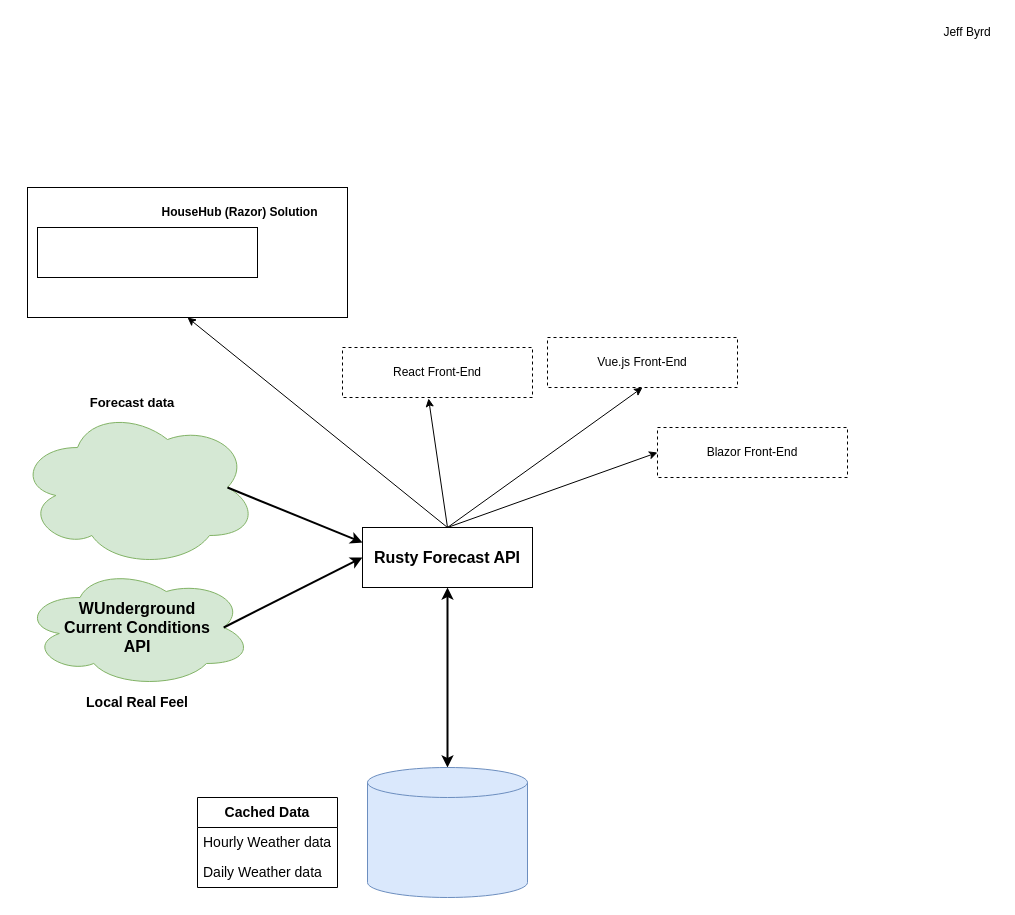
Some shapes in this 1015 by 915 pixel diagram are drawn without their labels. Each missing label, with the centre of its shape:
.NET Core Razor Pages: the point at 147,252
Postgres: the point at 447,832
tomorrow.io forecast data: the point at 137,487
